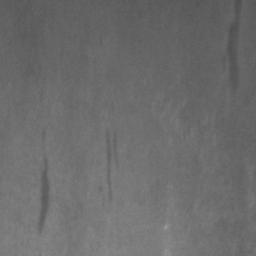Inclusion: (227, 0, 242, 87), (38, 172, 50, 230)
